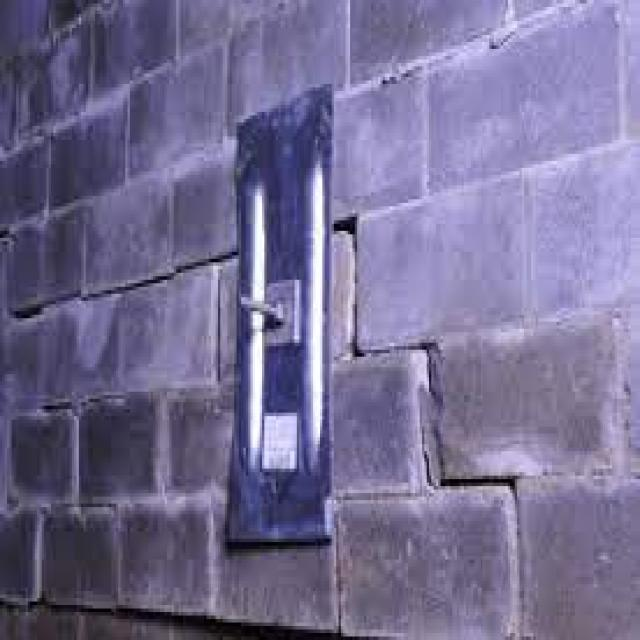Crack: (330, 203, 520, 538), (0, 224, 234, 325)
